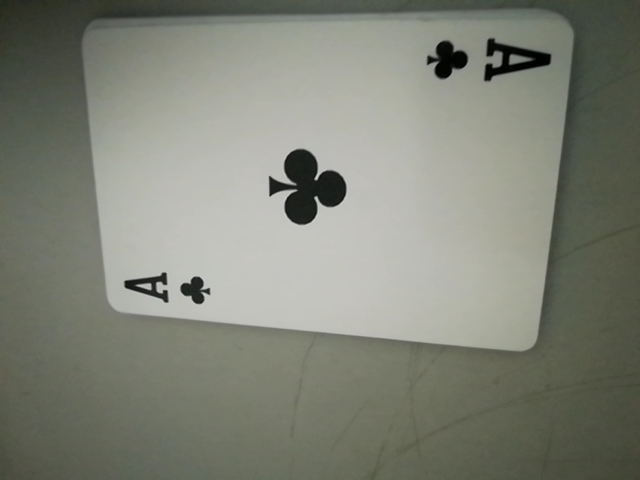mh a: (424, 29, 548, 93), (117, 262, 221, 314)
